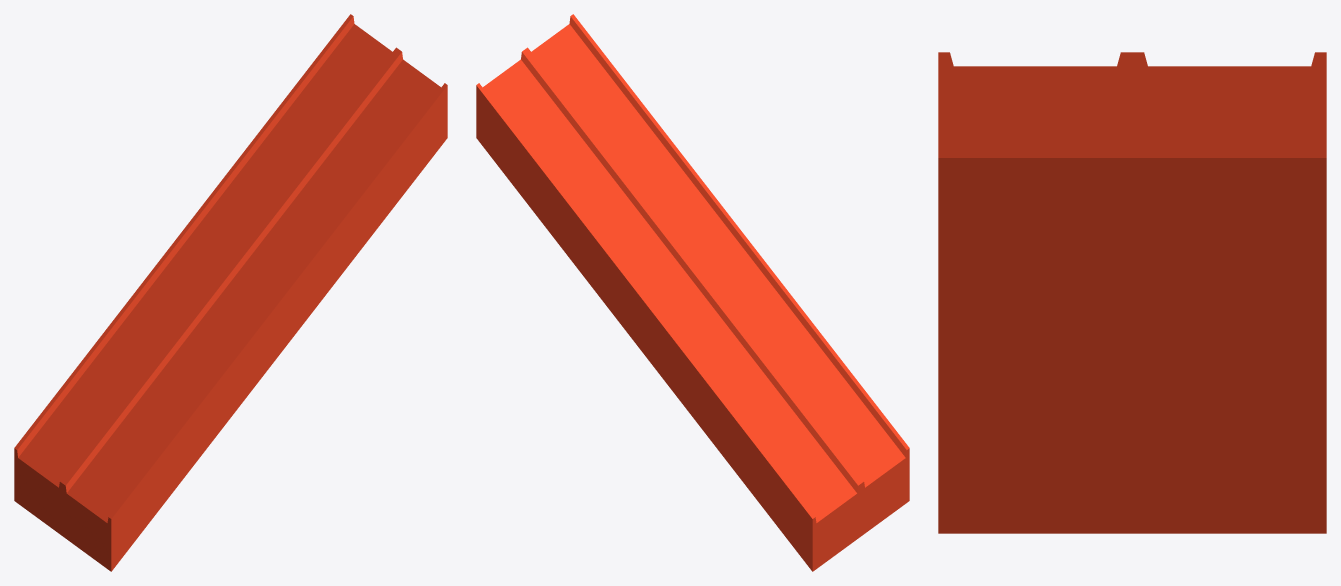
The model's file is roof-metal-regular-1x2m.fbx.
3 renders of one model, left to right at view 1: azimuth 30°, elevation 25°; view 2: azimuth 150°, elevation 25°; view 3: azimuth 270°, elevation 25°, orthographic. The views are drawn at different scales.
Visible parts, largest first — view 1: roof-metal-regular-1x2m; view 2: roof-metal-regular-1x2m; view 3: roof-metal-regular-1x2m.
Part boxes in pixels (x1=…): roof-metal-regular-1x2m: x1=14, y1=14, x2=447, y2=571; roof-metal-regular-1x2m: x1=476, y1=14, x2=909, y2=571; roof-metal-regular-1x2m: x1=938, y1=52, x2=1326, y2=533.
Bounding box in the file's own units: 2 × 2.3 × 1.
